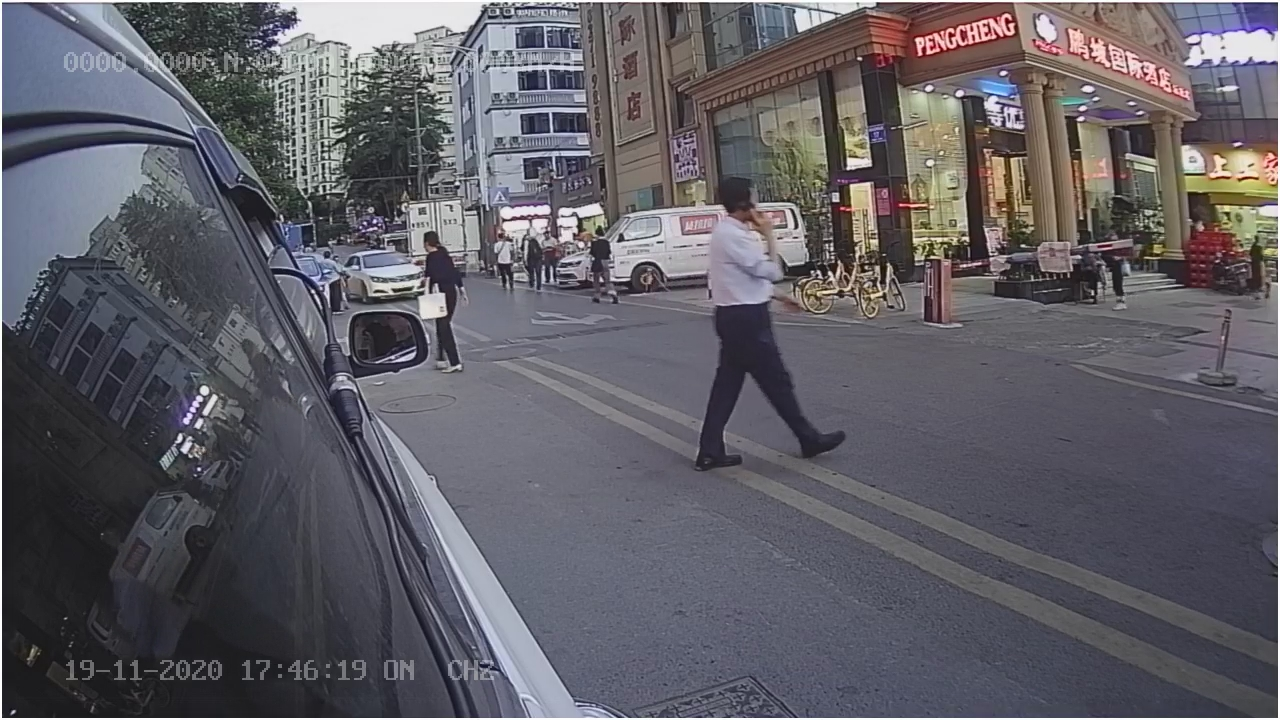person: (692, 180, 850, 470)
